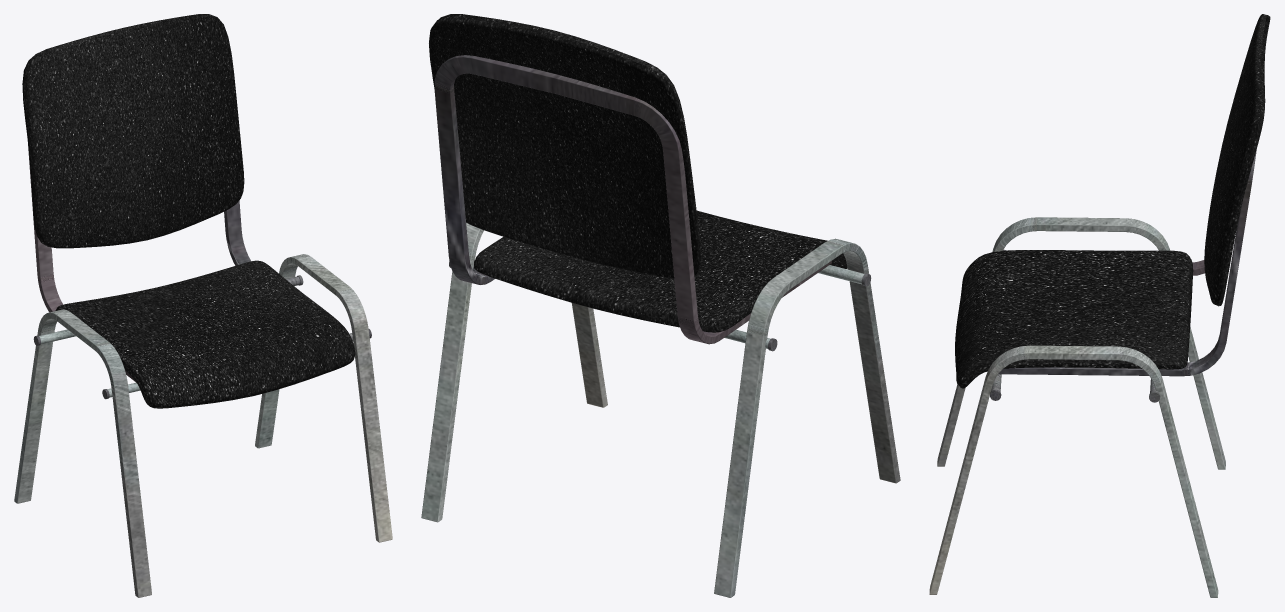
The model's file is sillaVieja.obj.
3 renders of one model, left to right at view 1: azimuth 30°, elevation 25°; view 2: azimuth 150°, elevation 25°; view 3: azimuth 270°, elevation 25°, orthographic. The views are drawn at different scales.
Visible parts, largest first — view 1: chair.001, chair, chair.003, chair.004, chair.002; view 2: chair.001, chair, chair.002, chair.003, chair.004; view 3: chair, chair.001, chair.004, chair.003, chair.002.
Boxes of the visible parts, <box> form: chair.001: <box>22,14,244,248</box>; chair: <box>55,260,355,408</box>; chair.003: <box>14,309,151,597</box>; chair.004: <box>255,254,392,542</box>; chair.002: <box>28,145,250,381</box>; chair.001: <box>429,14,701,278</box>; chair: <box>474,210,847,332</box>; chair.002: <box>434,55,831,344</box>; chair.003: <box>714,238,900,597</box>; chair.004: <box>421,223,607,522</box>; chair: <box>955,250,1193,388</box>; chair.001: <box>1204,14,1270,306</box>; chair.004: <box>929,345,1218,597</box>; chair.003: <box>937,217,1225,469</box>; chair.002: <box>998,150,1256,376</box>.
Bounding box in the file's own units: 34.68 × 54.23 × 34.97.
Materials: 2 (2 with a texture image).
